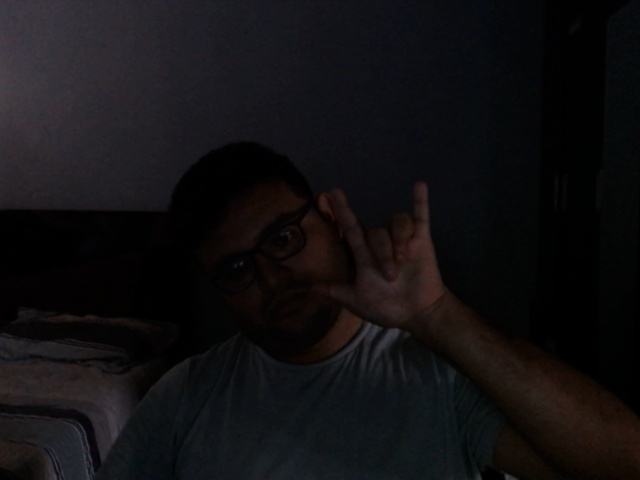I love you: (304, 179, 452, 340)
